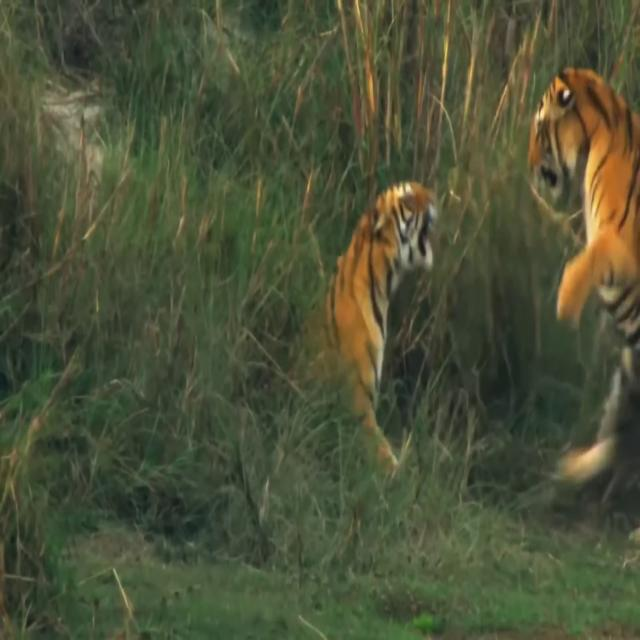tiger: (527, 68, 640, 478), (293, 184, 441, 477)
